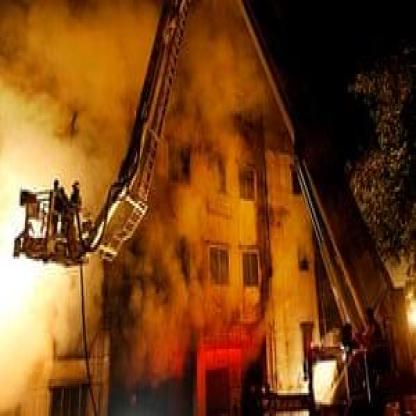fire: (2, 169, 48, 314)
